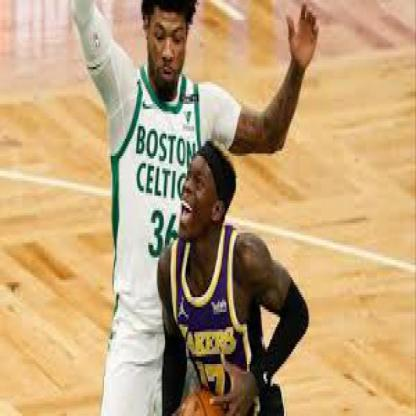basketball: (179, 386, 225, 414)
